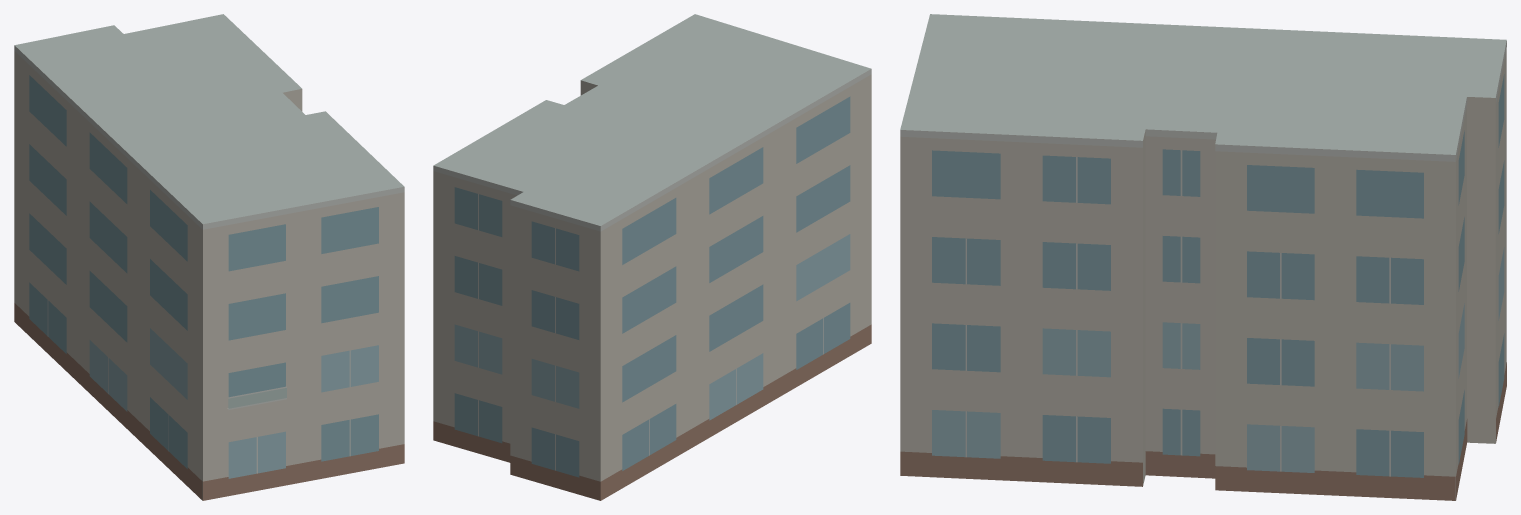
The model's file is survey-upis-32669315.glb.
The picture shows the model from 3 angles, left to right: view 1: azimuth 30°, elevation 25°; view 2: azimuth 150°, elevation 25°; view 3: azimuth 270°, elevation 25°; orthographic projection. The views are drawn at different scales.
Visible parts, largest first — view 1: survey-upis-32669315.tmp; view 2: survey-upis-32669315.tmp; view 3: survey-upis-32669315.tmp.
Boxes of the visible parts, <box> form: survey-upis-32669315.tmp: <box>14,14,404,500</box>; survey-upis-32669315.tmp: <box>433,14,871,500</box>; survey-upis-32669315.tmp: <box>900,14,1506,500</box>.
Bounding box in the file's own units: 10.68 × 12.21 × 19.42.
